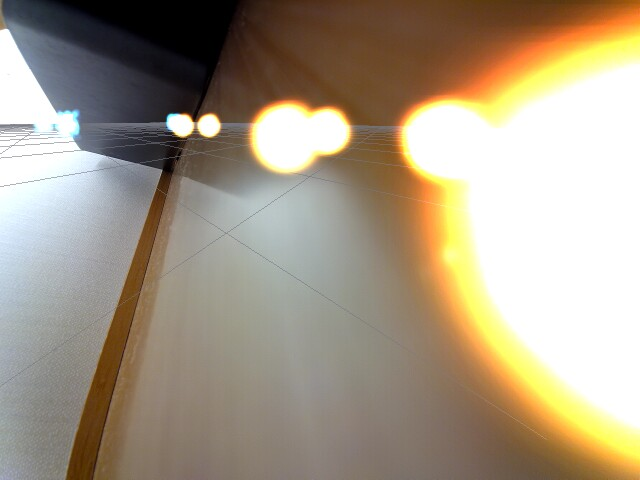firebig: (370, 33, 640, 460)
